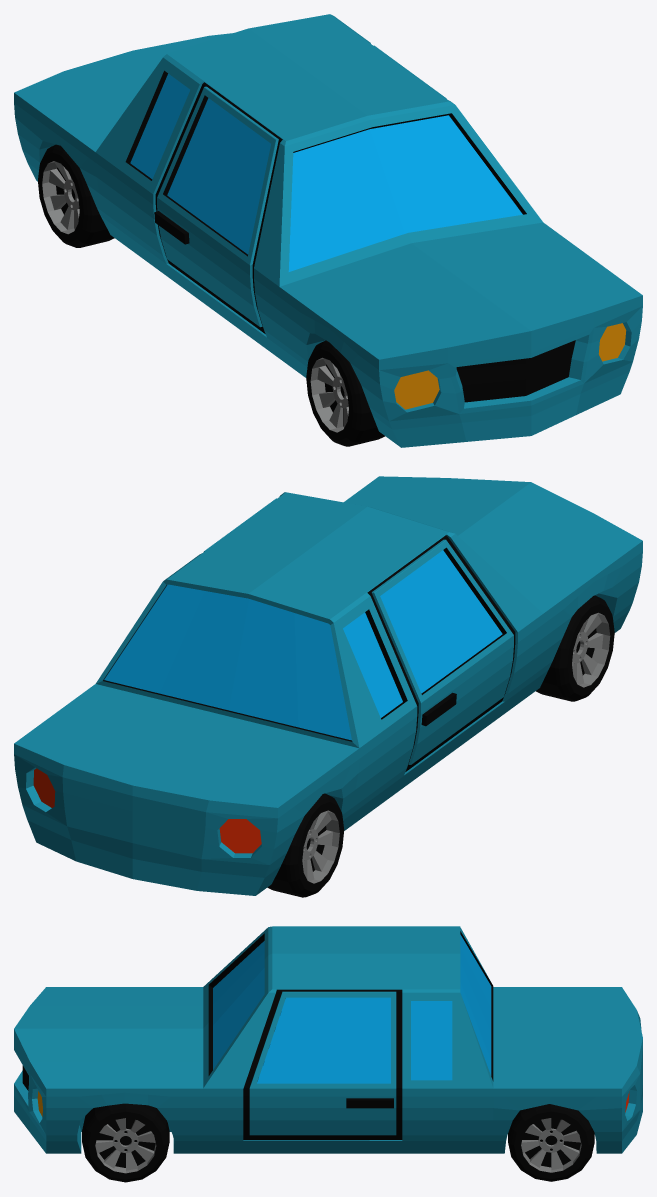
Rendered from Prototype_02.fbx.
The picture shows the model from 3 angles, top to bottom: view 1: azimuth 30°, elevation 25°; view 2: azimuth 150°, elevation 25°; view 3: azimuth 270°, elevation 25°; orthographic projection. The views are drawn at different scales.
Parts seen in each view (by area): view 1: Car_Body_02, Car_LP_F_R, Car_LP_R_R; view 2: Car_Body_02, Car_LP_F_R, Car_LP_R_R; view 3: Car_Body_02, Car_LP_F_L, Car_LP_R_L.
Boxes of the visible parts, left/top/right/bottom form: Car_Body_02: left=14, top=14, right=642, bottom=447; Car_LP_F_R: left=306, top=340, right=384, bottom=446; Car_LP_R_R: left=38, top=144, right=114, bottom=247; Car_Body_02: left=14, top=476, right=642, bottom=895; Car_LP_F_R: left=536, top=595, right=614, bottom=701; Car_LP_R_R: left=267, top=793, right=344, bottom=897; Car_Body_02: left=14, top=926, right=642, bottom=1153; Car_LP_F_L: left=82, top=1103, right=169, bottom=1182; Car_LP_R_L: left=508, top=1104, right=594, bottom=1181.
Bounding box in the file's own units: 4.04 × 10.24 × 3.26.
